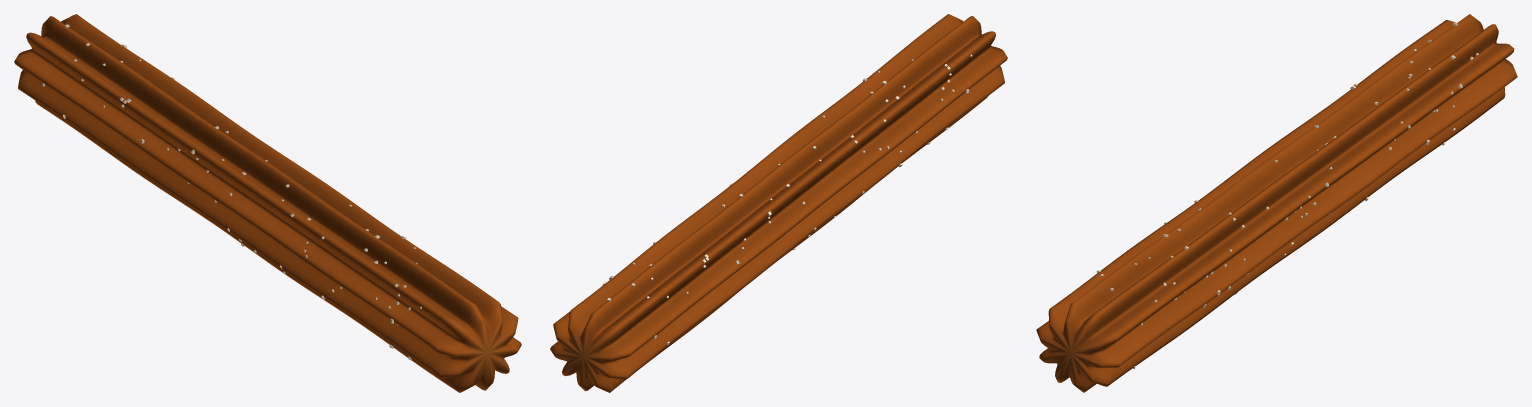
Rendered from ChurrosBlade.fbx.
The picture shows the model from 3 angles, left to right: view 1: azimuth 30°, elevation 25°; view 2: azimuth 150°, elevation 25°; view 3: azimuth 330°, elevation 25°; orthographic projection. The views are drawn at different scales.
Visible parts, largest first — view 1: Baked_ORIGINAL-RED_Churro_body, Baked_ORIGINAL-RED_Churro_sugar; view 2: Baked_ORIGINAL-RED_Churro_body, Baked_ORIGINAL-RED_Churro_sugar; view 3: Baked_ORIGINAL-RED_Churro_body, Baked_ORIGINAL-RED_Churro_sugar.
Boxes of the visible parts, x1,y1,x2,y2 form: Baked_ORIGINAL-RED_Churro_body: (14,14,521,392); Baked_ORIGINAL-RED_Churro_sugar: (42,24,421,360); Baked_ORIGINAL-RED_Churro_body: (550,14,1007,392); Baked_ORIGINAL-RED_Churro_sugar: (602,54,972,345); Baked_ORIGINAL-RED_Churro_body: (1036,14,1517,392); Baked_ORIGINAL-RED_Churro_sugar: (1096,23,1478,368).
Bounding box in the file's own units: 30.53 × 30.66 × 238.
